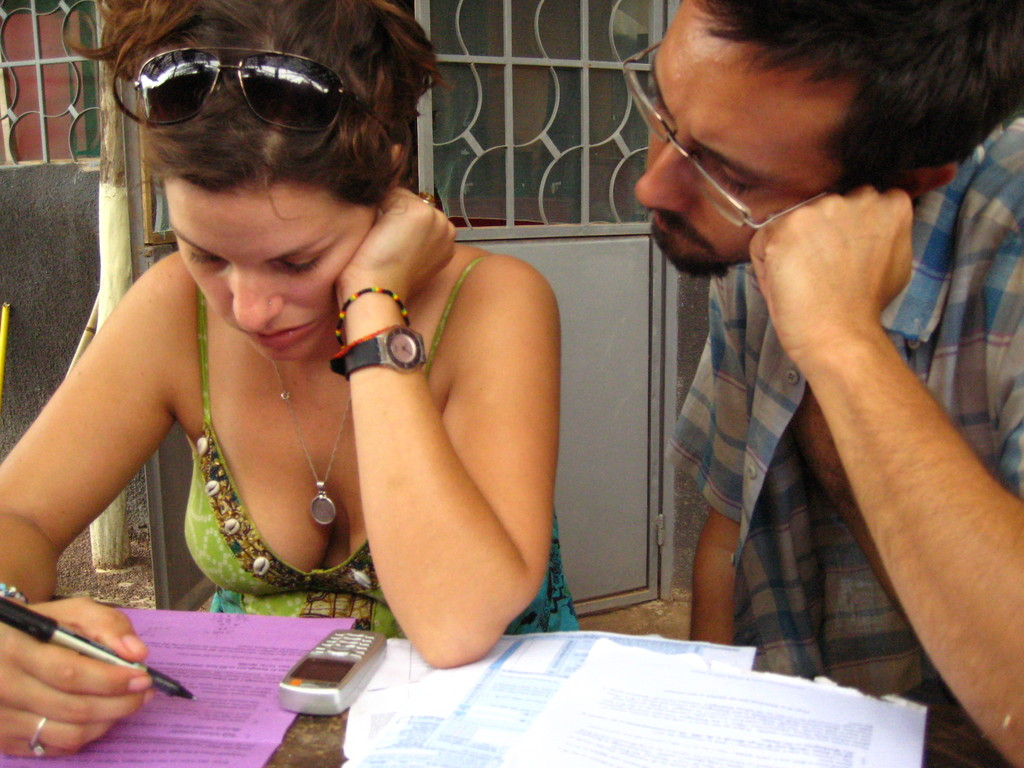Pen: (0, 591, 195, 704)
